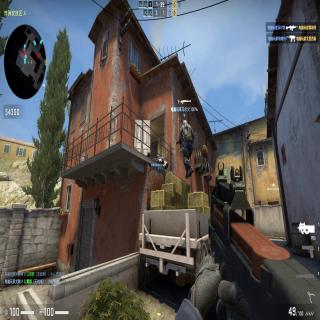CT-Body: (178, 119, 195, 176)
CT-Head: (182, 120, 188, 126)
